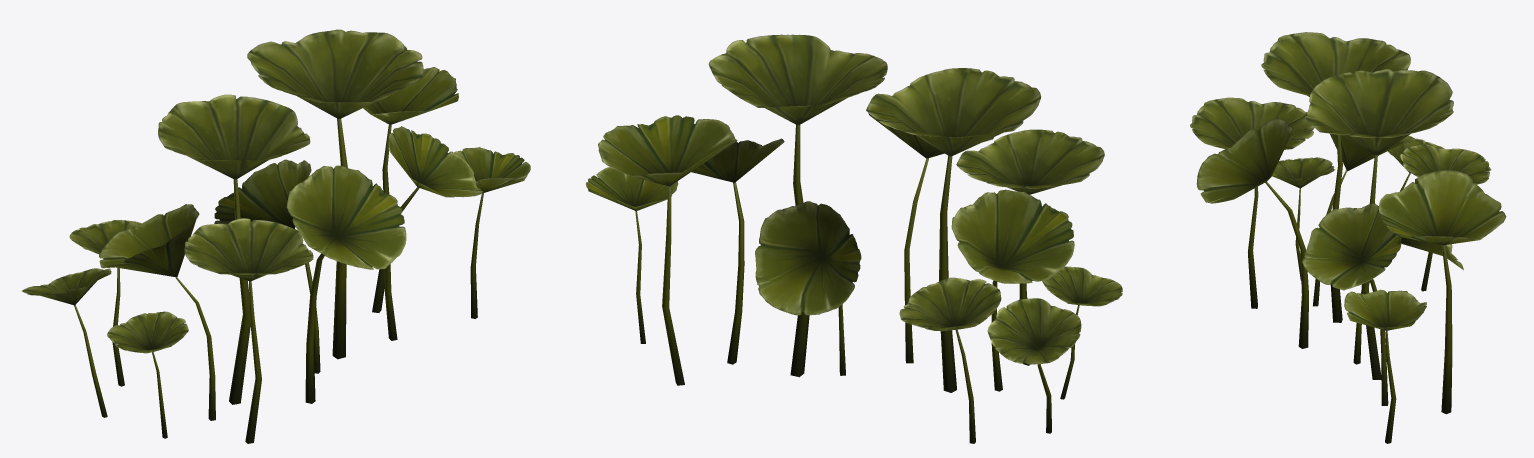
Rendered from Wetlands_Plant_02.fbx.
The picture shows the model from 3 angles, left to right: view 1: azimuth 30°, elevation 25°; view 2: azimuth 150°, elevation 25°; view 3: azimuth 270°, elevation 25°; orthographic projection. The views are drawn at different scales.
Parts seen in each view (by area): view 1: Wetlands_Plant_02; view 2: Wetlands_Plant_02; view 3: Wetlands_Plant_02.
Part boxes in pixels (box(x1,y1,x2,y2)): Wetlands_Plant_02: box(22, 29, 530, 443); Wetlands_Plant_02: box(586, 34, 1122, 443); Wetlands_Plant_02: box(1190, 32, 1506, 443).
Bounding box in the file's own units: 7.31 × 4.28 × 4.82.
1 material, 1 textured.
